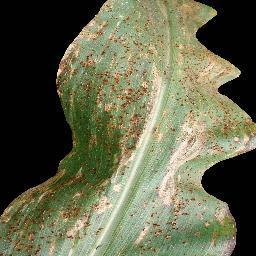Corn_Common_Rust: (52, 0, 256, 161), (0, 190, 241, 256), (27, 160, 220, 190)
